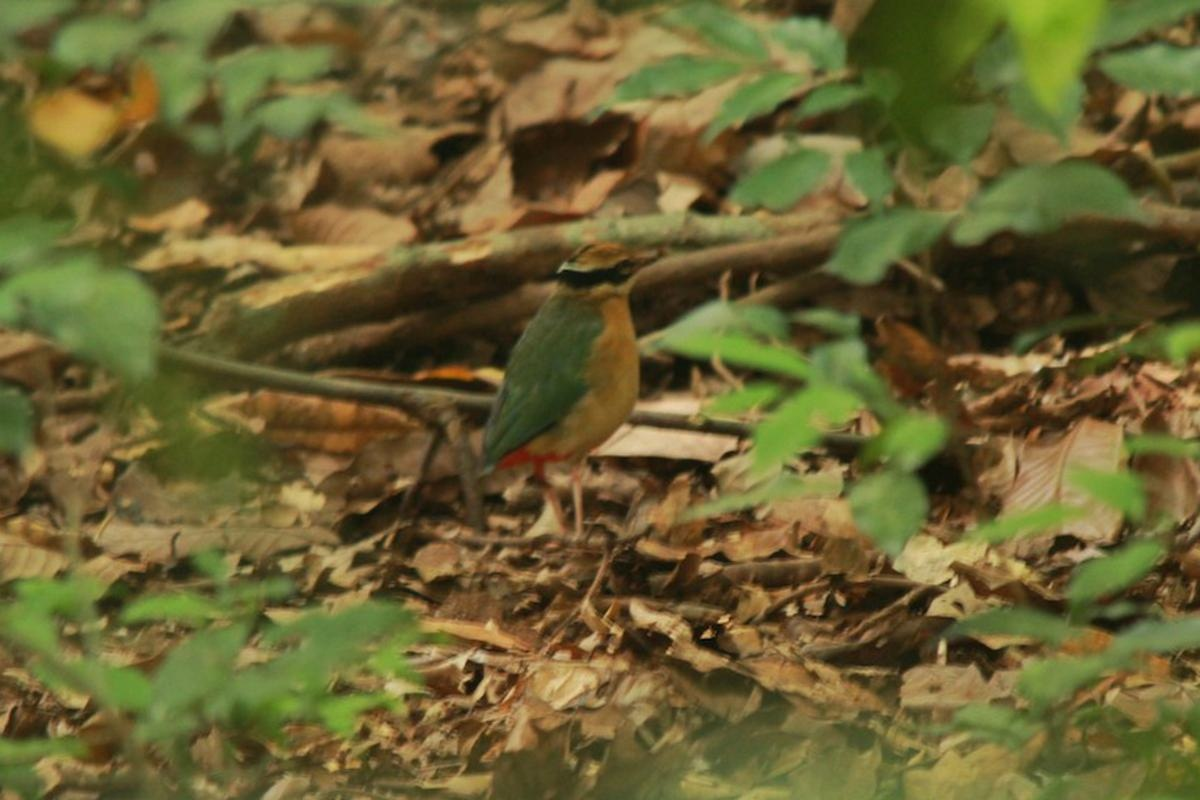pitta: (451, 208, 715, 541)
